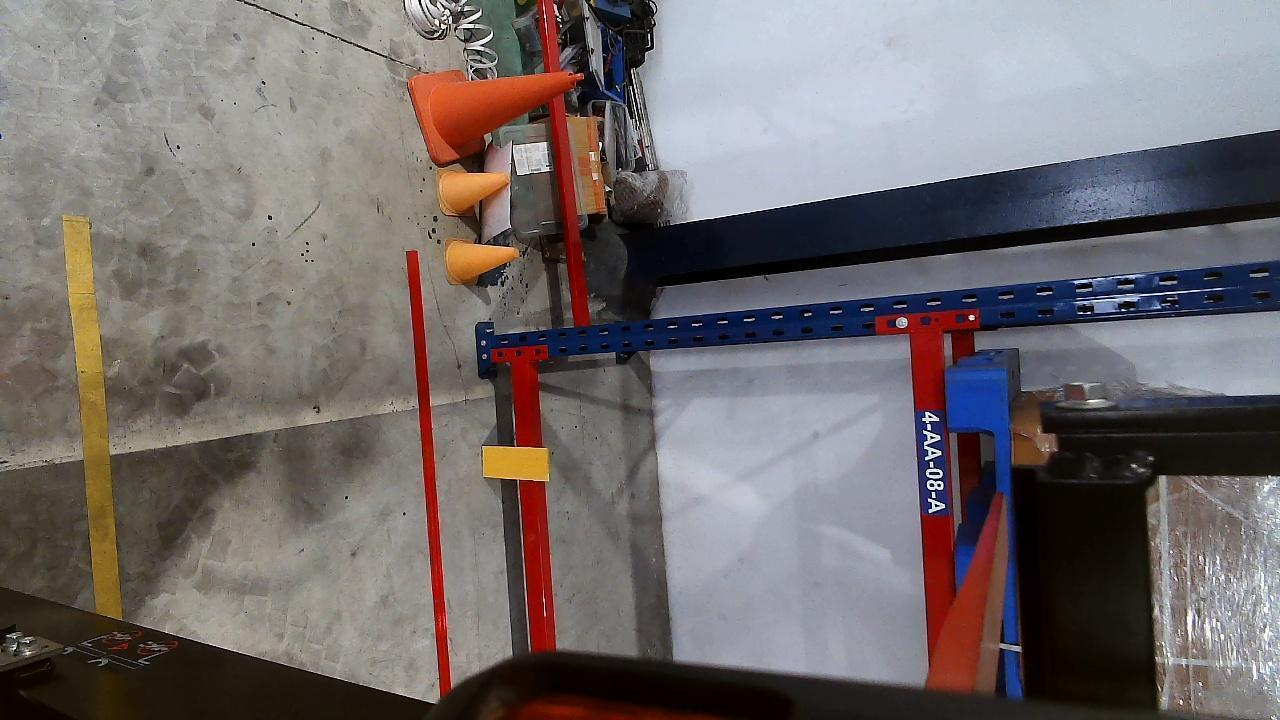red_line: (409, 251, 452, 693)
yellow_line: (59, 214, 120, 617)
